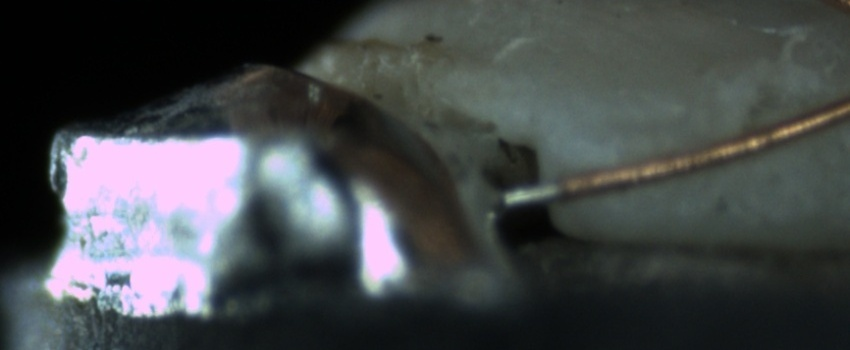DL: (577, 97, 702, 157)
TS: (499, 180, 555, 211)
